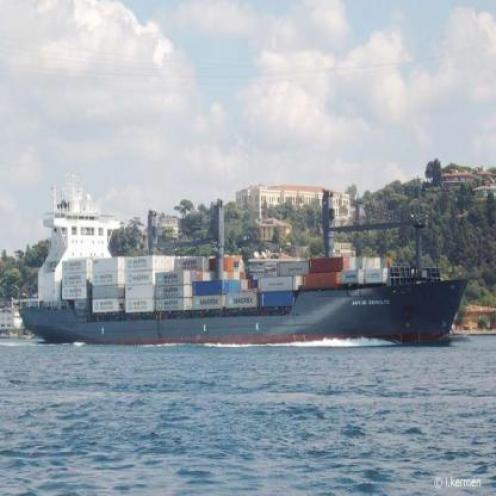Ship: (17, 201, 479, 353)
